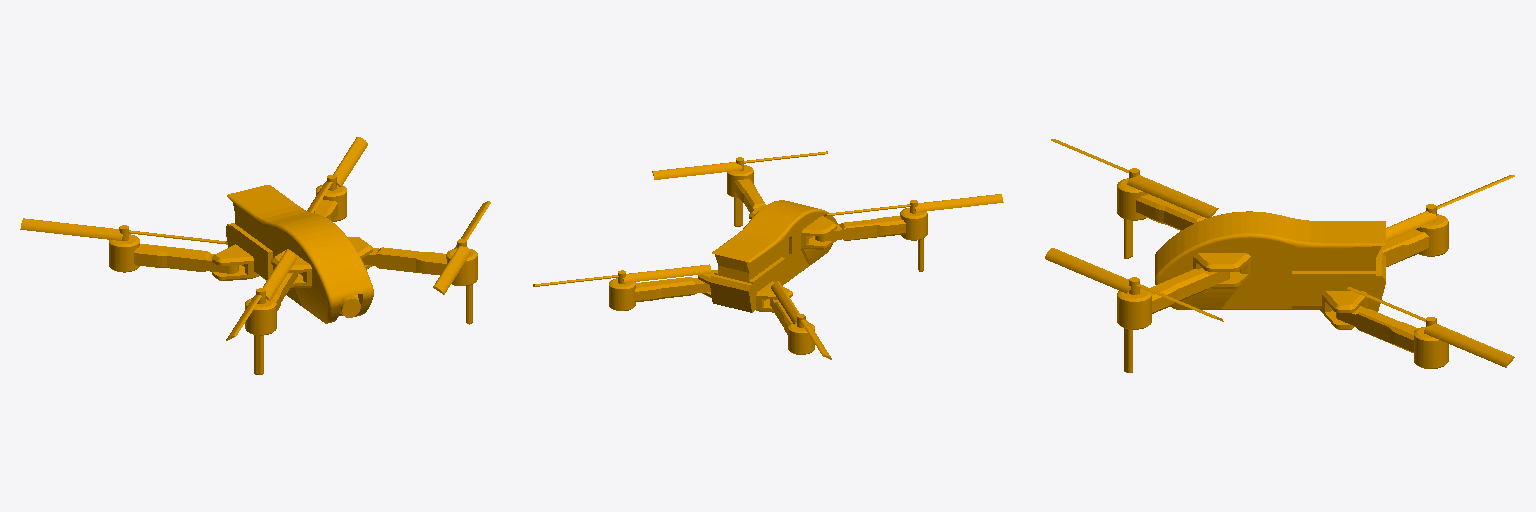
robot.urdf — drone:
<?xml version="1.0"?>
<robot name="drone">

  <link name="base">

    <inertial>
      <origin xyz="0 0 0" rpy="0 0 0"/>
      <mass value="0.2"/>
      <inertia ixx="0.02" iyy="0.02" izz="0.04" ixy="0" ixz="0" iyz="0"/>
    </inertial>

    <visual>
      <origin xyz="0 0 0" rpy="0 0 0"/>
      <geometry>
        <mesh filename="drone.stl" scale="1 1 1"/>  <!-- often needed -->
      </geometry>
    </visual>

    <collision>
      <origin xyz="0 0 0" rpy="0 0 0"/>
      <geometry>
        <mesh filename="drone.stl" scale="1 1 1"/>
      </geometry>
    </collision>

  </link>

</robot>

--- What the picture shows (computed from the rendered views, not written in the file) ---
Views: 3 orthographic renders of the robot side by side, from view 1: azimuth 30°, elevation 25°; view 2: azimuth 150°, elevation 25°; view 3: azimuth 270°, elevation 25°.
Model drone with 1 links and 0 joints (none), rooted at base, posed all joints at 0.
Visible links, largest first — view 1: base; view 2: base; view 3: base.
Boxes of the visible links, x1,y1,x2,y2 form: base: (20,137,490,374); base: (533,151,1003,359); base: (1045,139,1514,372).
Size in the robot's own frame: 306 by 323 by 69.89 metres.
1 mesh visuals loaded from 1 distinct referenced files (1 binary STL).